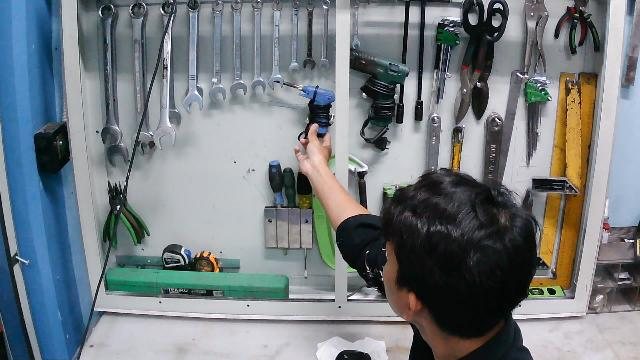solder_electrical: (272, 76, 335, 146)
